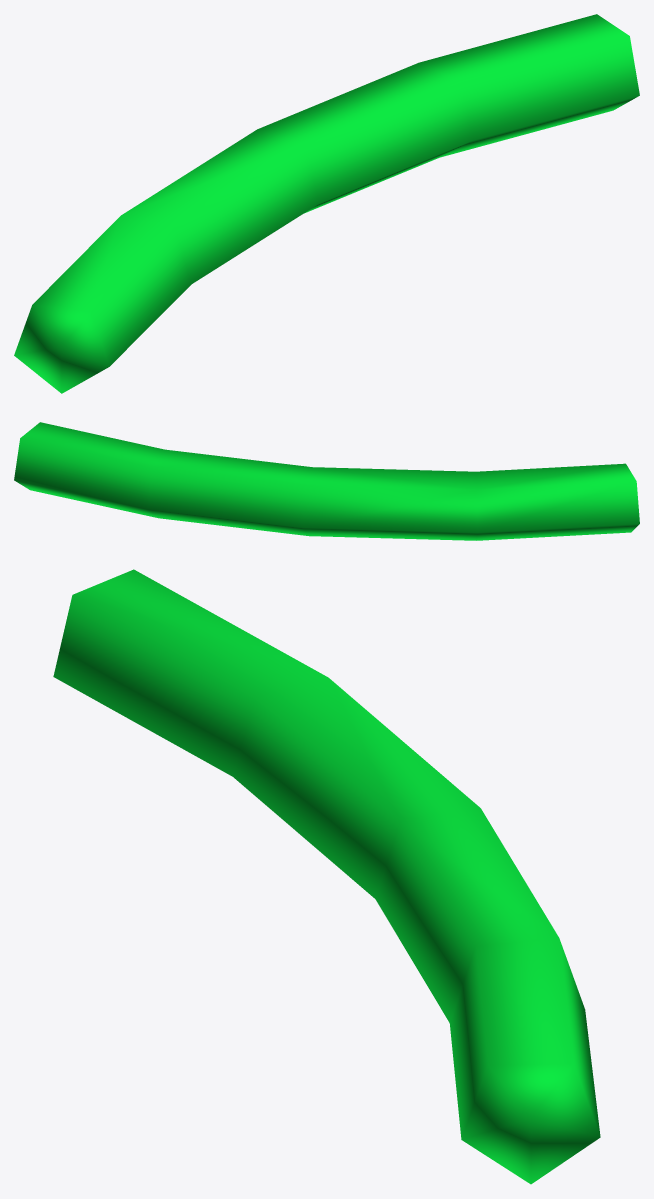
Rendered from Pipe_Turn_45_B_Int.fbx.
3 views of the same model, one above another, from view 1: azimuth 30°, elevation 25°; view 2: azimuth 150°, elevation 25°; view 3: azimuth 270°, elevation 25° (orthographic). The views are drawn at different scales.
Parts seen in each view (by area): view 1: Pipe_Turn_45_B_Int; view 2: Pipe_Turn_45_B_Int; view 3: Pipe_Turn_45_B_Int.
Part boxes in pixels (box(x1,y1,x2,y2)): Pipe_Turn_45_B_Int: box(14, 14, 639, 393); Pipe_Turn_45_B_Int: box(14, 422, 639, 540); Pipe_Turn_45_B_Int: box(53, 569, 600, 1184).
Bounding box in the file's own units: 1.83 × 0.2028 × 0.8379.
